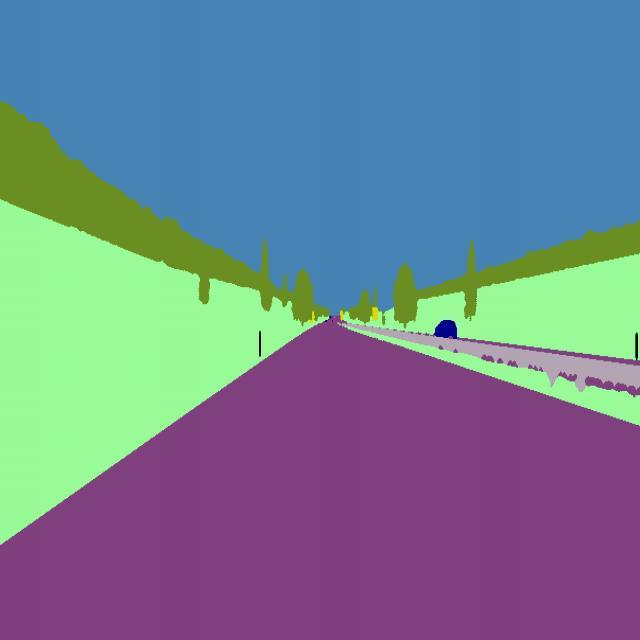safe: (431, 314, 461, 344)
